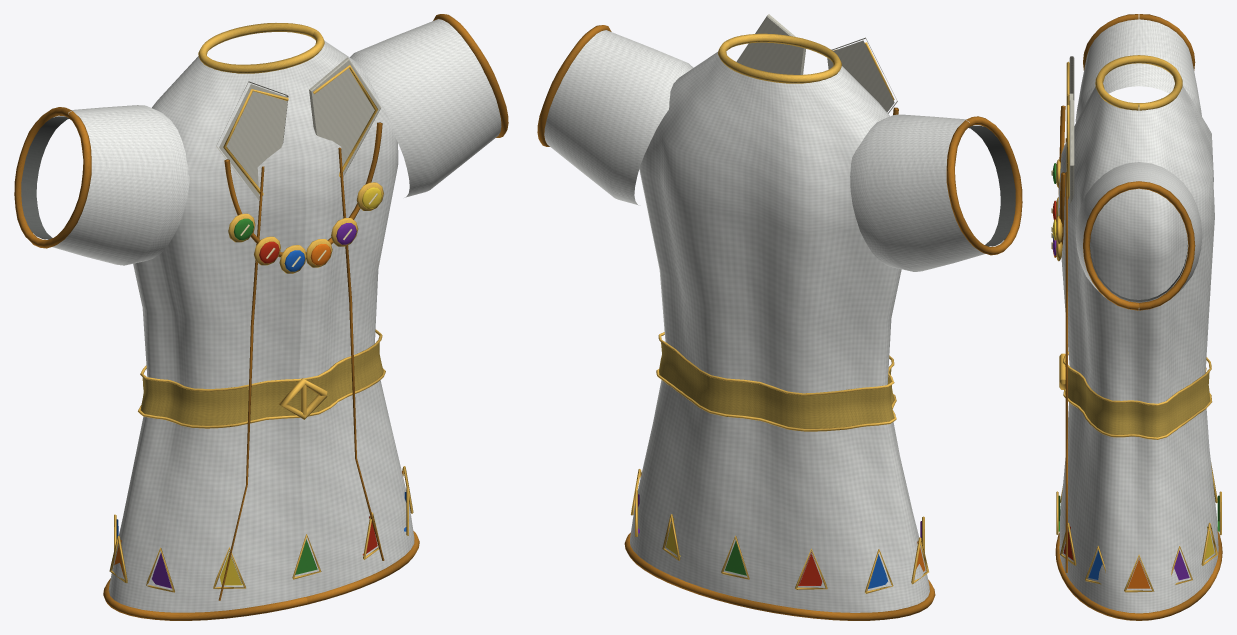
The model's file is sages_tunic.glb.
3 views of the same model, side by side, from view 1: azimuth 30°, elevation 25°; view 2: azimuth 150°, elevation 25°; view 3: azimuth 270°, elevation 25° (orthographic). The views are drawn at different scales.
Visible parts, largest first — view 1: White woven sage robe, Hollow stitched sleeve (×2), Folded V-neck collar (×2), Fitted waist belt, Rolled sleeve cuff edge (×2), Sage robe gold hem seam, Sage robe front gold stitched seam (×2), Open neckline rolled seam, Sleeve dark inner cuff, Waist belt sewn piping (×2), Six sages embroidered neck chain, Square waist buckle rim; view 2: White woven sage robe, Hollow stitched sleeve (×2), Fitted waist belt, Folded V-neck collar (×2), Rolled sleeve cuff edge (×2), Sage robe gold hem seam, Open neckline rolled seam, Sleeve dark inner cuff, Waist belt sewn piping (×2); view 3: White woven sage robe, Hollow stitched sleeve (×2), Fitted waist belt, Rolled sleeve cuff edge (×2), Sage robe gold hem seam, Open neckline rolled seam, Sage robe front gold stitched seam, Waist belt sewn piping (×2), Folded V-neck collar (×2), Sage colored hem triangle (×2), Six sages embroidered neck chain, Collar stitched edging (+1 smaller).
Boxes of the visible parts, bbox=[...] form: White woven sage robe: bbox=[108, 41, 414, 612]; Hollow stitched sleeve (×2): bbox=[52, 19, 501, 265]; Folded V-neck collar (×2): bbox=[216, 57, 381, 199]; Fitted waist belt: bbox=[140, 343, 383, 425]; Rolled sleeve cuff edge (×2): bbox=[14, 14, 508, 248]; Sage robe gold hem seam: bbox=[103, 531, 419, 620]; Sage robe front gold stitched seam (×2): bbox=[218, 147, 384, 600]; Open neckline rolled seam: bbox=[198, 23, 324, 73]; Sleeve dark inner cuff: bbox=[21, 116, 69, 239]; Waist belt sewn piping (×2): bbox=[138, 329, 385, 428]; Six sages embroidered neck chain: bbox=[224, 122, 382, 257]; Square waist buckle rim: bbox=[278, 378, 327, 419]; White woven sage robe: bbox=[630, 51, 929, 612]; Hollow stitched sleeve (×2): bbox=[544, 30, 985, 271]; Fitted waist belt: bbox=[659, 342, 893, 428]; Folded V-neck collar (×2): bbox=[736, 14, 897, 113]; Rolled sleeve cuff edge (×2): bbox=[537, 25, 1022, 255]; Sage robe gold hem seam: bbox=[624, 532, 935, 620]; Open neckline rolled seam: bbox=[718, 33, 841, 83]; Sleeve dark inner cuff: bbox=[968, 125, 1015, 246]; Waist belt sewn piping (×2): bbox=[656, 332, 896, 431]; White woven sage robe: bbox=[1058, 86, 1218, 613]; Hollow stitched sleeve (×2): bbox=[1075, 17, 1202, 308]; Fitted waist belt: bbox=[1065, 365, 1209, 437]; Rolled sleeve cuff edge (×2): bbox=[1083, 14, 1195, 310]; Sage robe gold hem seam: bbox=[1055, 531, 1222, 620]; Open neckline rolled seam: bbox=[1095, 55, 1182, 110]; Sage robe front gold stitched seam: bbox=[1065, 172, 1067, 572]; Waist belt sewn piping (×2): bbox=[1063, 351, 1212, 439]; Folded V-neck collar (×2): bbox=[1069, 56, 1074, 203]; Sage colored hem triangle (×2): bbox=[1127, 550, 1189, 588]; Six sages embroidered neck chain: bbox=[1058, 105, 1065, 244]; Collar stitched edging: bbox=[1066, 105, 1069, 199].
Size of the model in its own units: 56.22 by 61.74 by 20.07.
13 materials, 13 textured.
